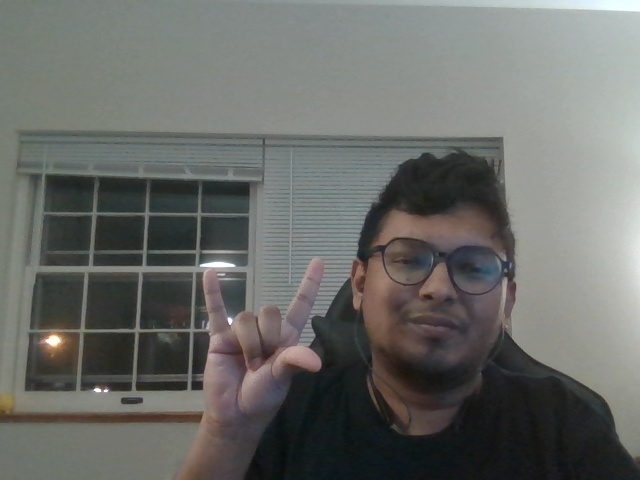ilikeyou: (182, 247, 340, 429)
